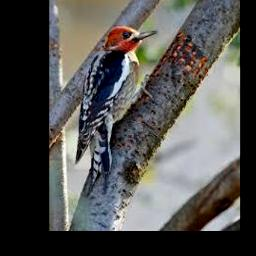Woodpecker: (75, 26, 158, 196)
